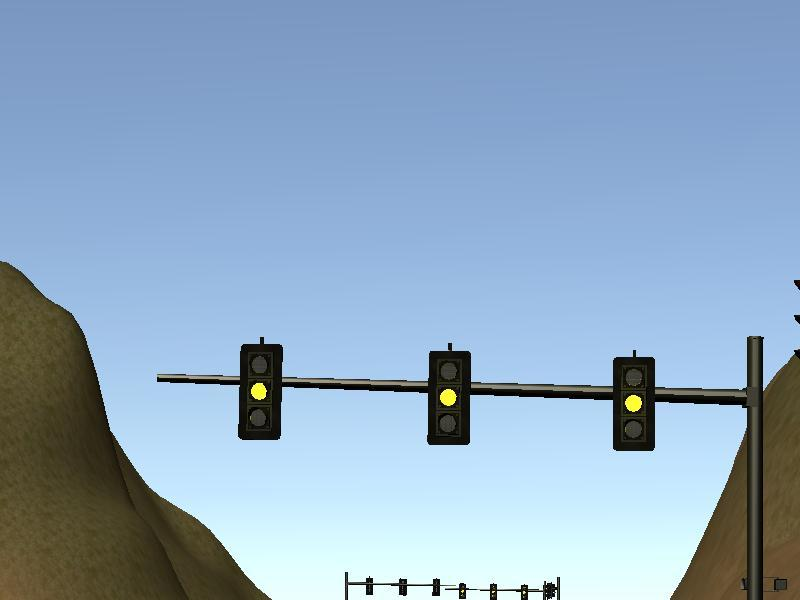Yellow: (240, 344, 281, 439), (613, 358, 655, 450), (429, 352, 469, 443)
